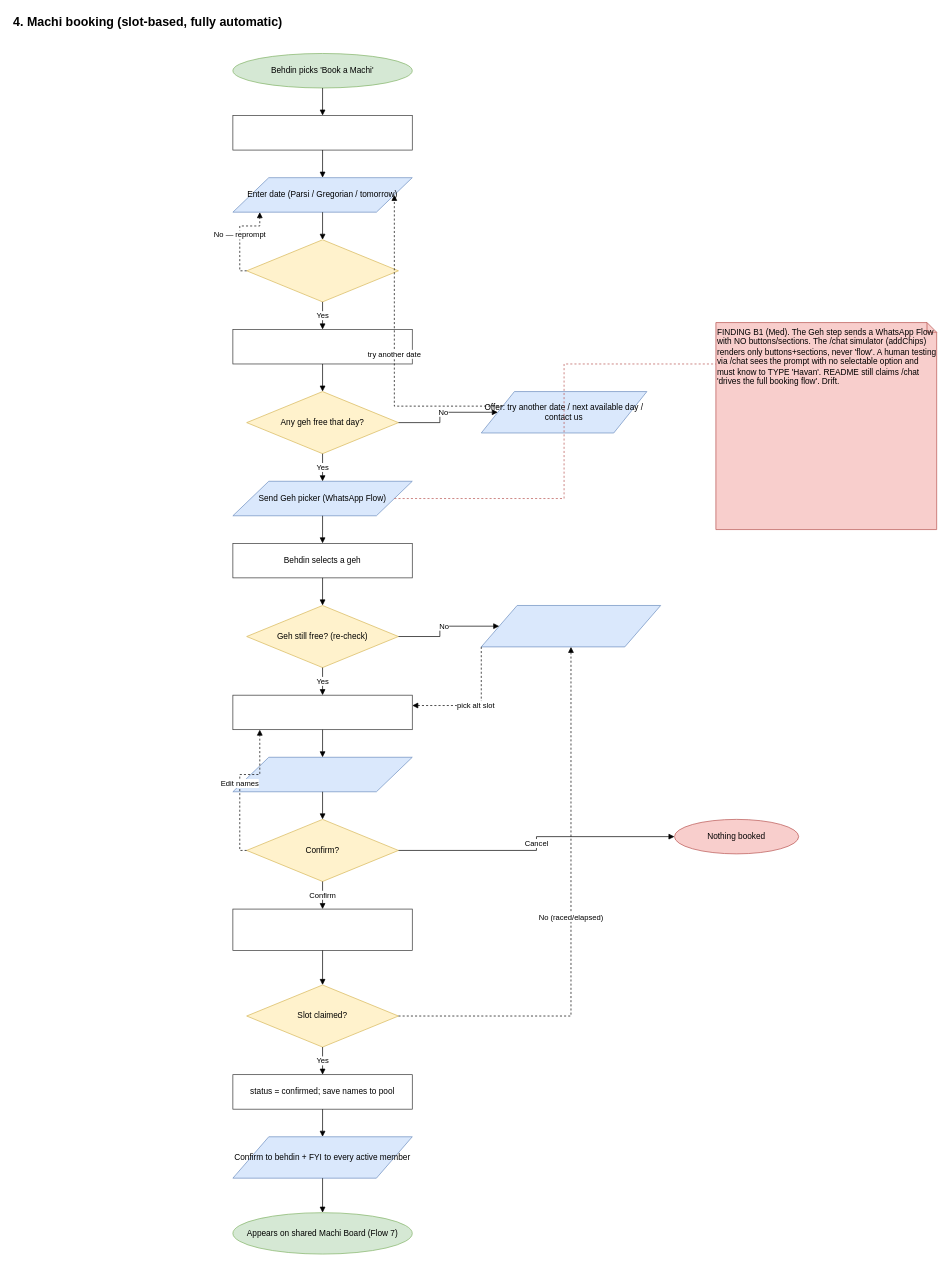
This 949x1266 diagram has some shape labels left out. The shapes that lost their labels are listed below. From the top down, each one's box as (x1, y1, x2, y2) in pixels, then its label:
(232, 115, 412, 150): Select purpose: Patet / Tandarosti
(246, 239, 398, 302): Date resolved? (may ask Mah/Roj/confirm)
(232, 329, 412, 364): Compute free gehs; drop elapsed gehs
(481, 605, 661, 647): Show alternatives: same-day geh / same-geh next days / cancel / contact
(232, 694, 412, 730): Names phase (offer saved / enter new)
(232, 757, 412, 792): Show confirmation summary
(232, 908, 412, 950): book_machi_slot (shared core: validate · free? · claim · alternatives)
